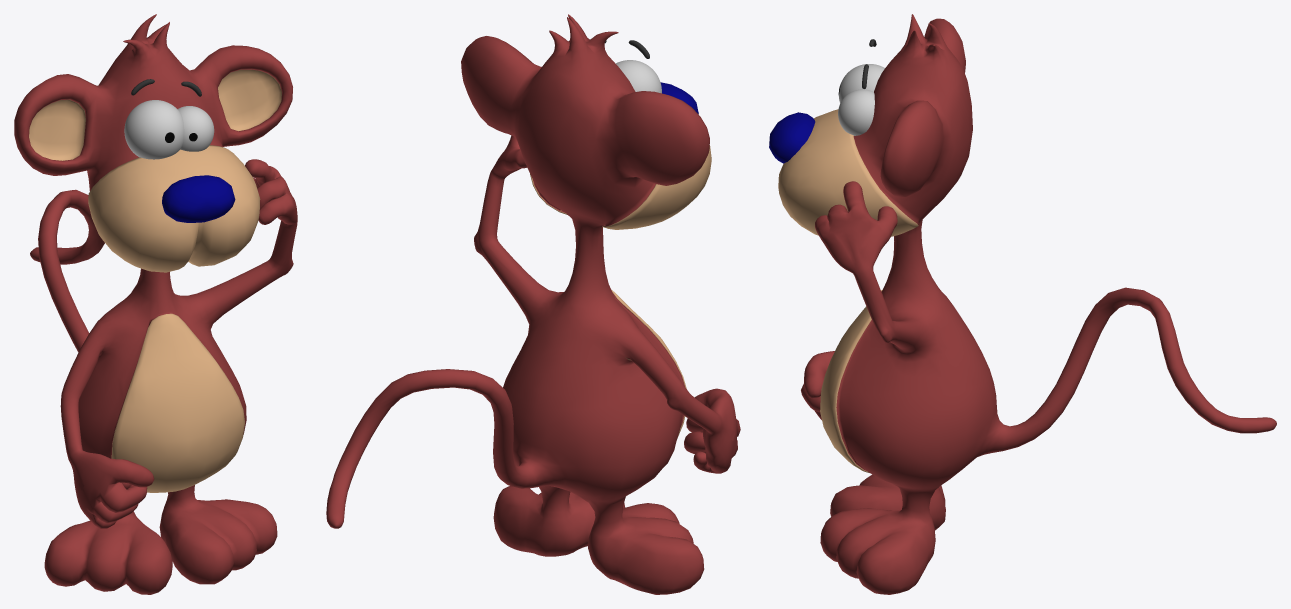
Rendered from 3D-Cartoon-Character-Monkey 1.fbx.
The picture shows the model from 3 angles, left to right: view 1: azimuth 30°, elevation 25°; view 2: azimuth 150°, elevation 25°; view 3: azimuth 270°, elevation 25°; orthographic projection. The views are drawn at different scales.
Parts seen in each view (by area): view 1: monkey_pos1; view 2: monkey_pos1; view 3: monkey_pos1.
Boxes of the visible parts, x1=… form: monkey_pos1: x1=14, y1=14, x2=297, y2=594; monkey_pos1: x1=326, y1=14, x2=740, y2=594; monkey_pos1: x1=769, y1=14, x2=1276, y2=594.
Bounding box in the file's own units: 0.2517 × 0.5089 × 0.4384.
